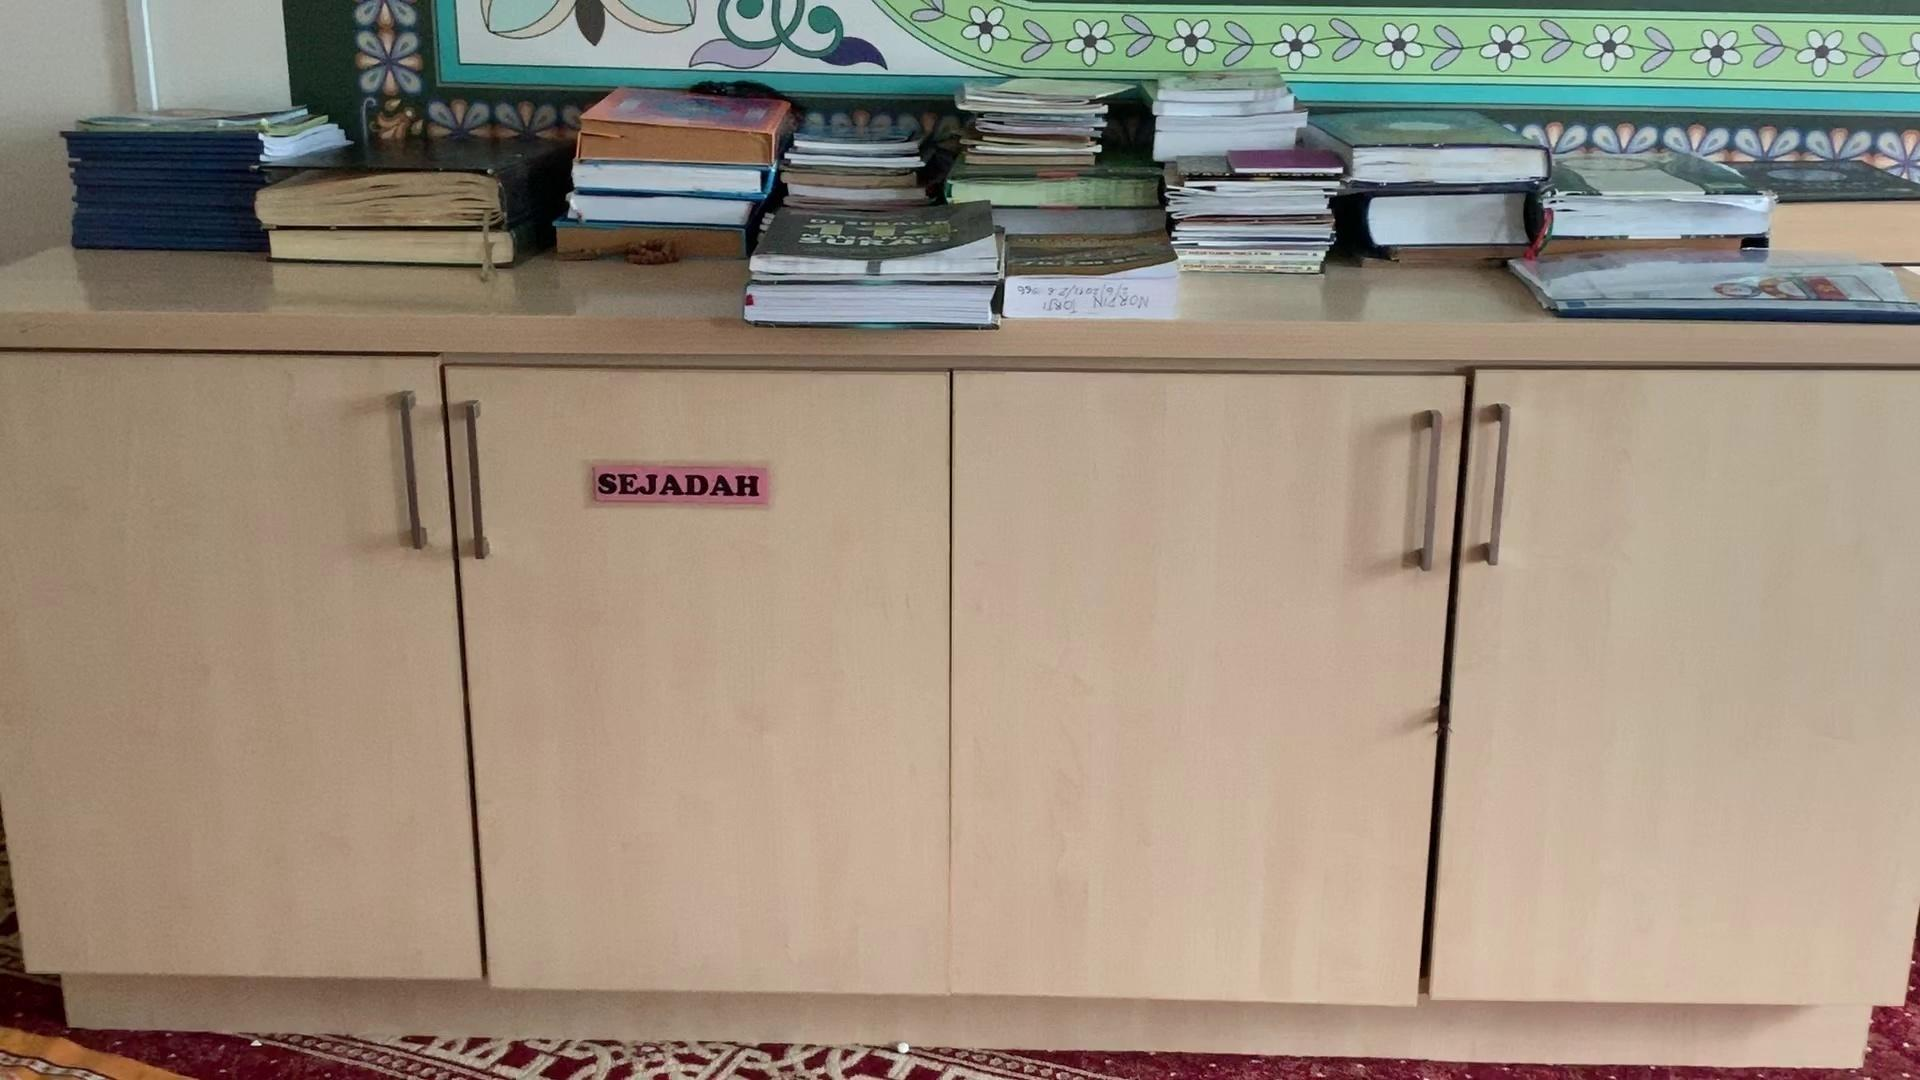cabinet_door: (951, 367, 1444, 1001), (460, 363, 947, 986), (1453, 376, 1920, 1001), (0, 367, 452, 980)
handle: (388, 384, 438, 563), (451, 388, 500, 571), (1408, 400, 1456, 579), (1478, 396, 1519, 578)
